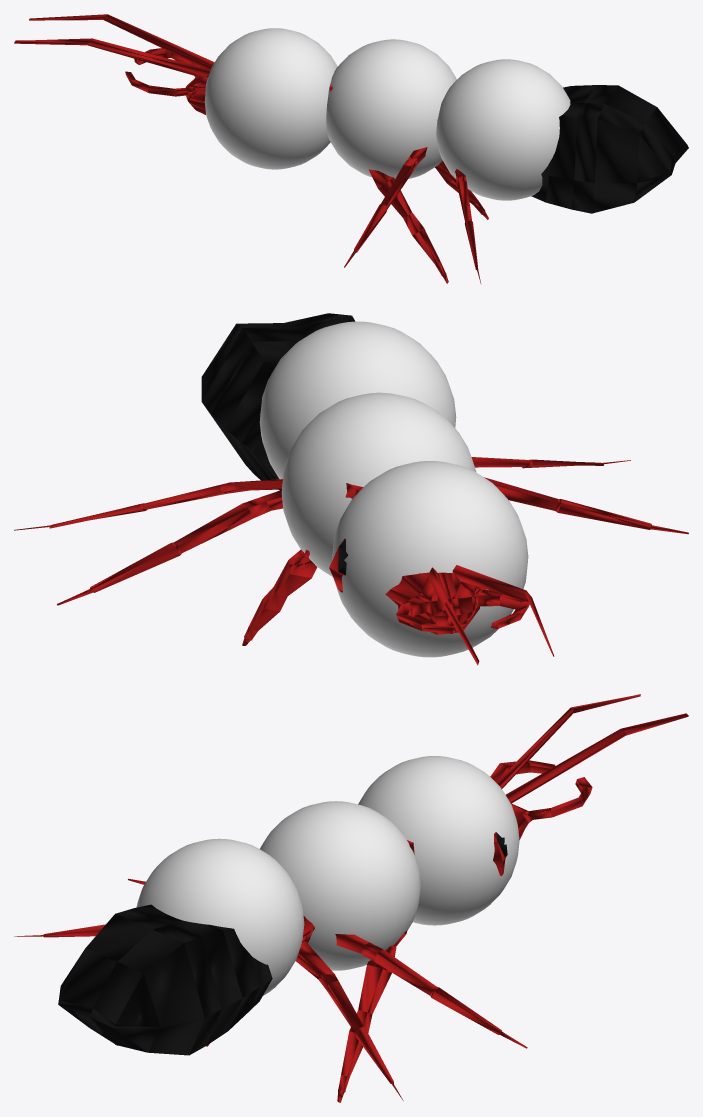
File: mrowka_01.FBX
3 renders of one model, top to bottom at view 1: azimuth 30°, elevation 25°; view 2: azimuth 150°, elevation 25°; view 3: azimuth 270°, elevation 25°, orthographic. The views are drawn at different scales.
Parts seen in each view (by area): view 1: Box001, BoundingSphere006, BoundingSphere005, BoundingSphere4; view 2: Box001, BoundingSphere006, BoundingSphere4, BoundingSphere005; view 3: Box001, BoundingSphere4, BoundingSphere006, BoundingSphere005.
Boxes of the visible parts, x1=… form: Box001: x1=14, y1=14, x2=688, y2=284; BoundingSphere006: x1=204, y1=28, x2=337, y2=169; BoundingSphere005: x1=436, y1=59, x2=570, y2=200; BoundingSphere4: x1=326, y1=39, x2=456, y2=178; Box001: x1=14, y1=313, x2=688, y2=665; BoundingSphere006: x1=332, y1=461, x2=528, y2=657; BoundingSphere4: x1=281, y1=392, x2=476, y2=576; BoundingSphere005: x1=259, y1=321, x2=456, y2=479; Box001: x1=14, y1=694, x2=688, y2=1102; BoundingSphere4: x1=260, y1=801, x2=420, y2=970; BoundingSphere006: x1=358, y1=756, x2=519, y2=925; BoundingSphere005: x1=136, y1=838, x2=304, y2=995.
Size of the model in its own units: 98.09 by 38.09 by 98.09.
